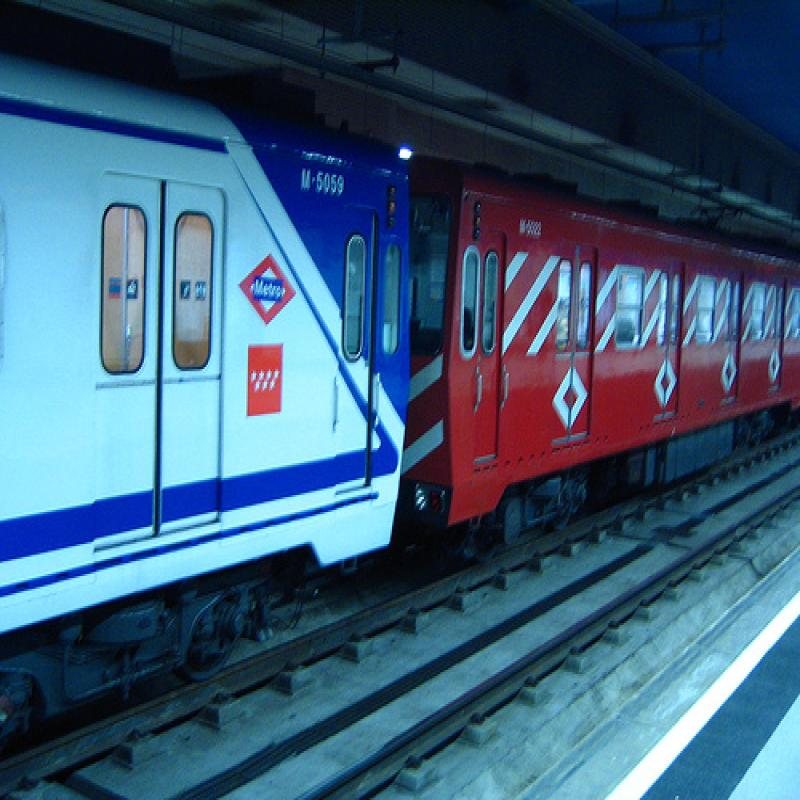train: (1, 48, 798, 750)
